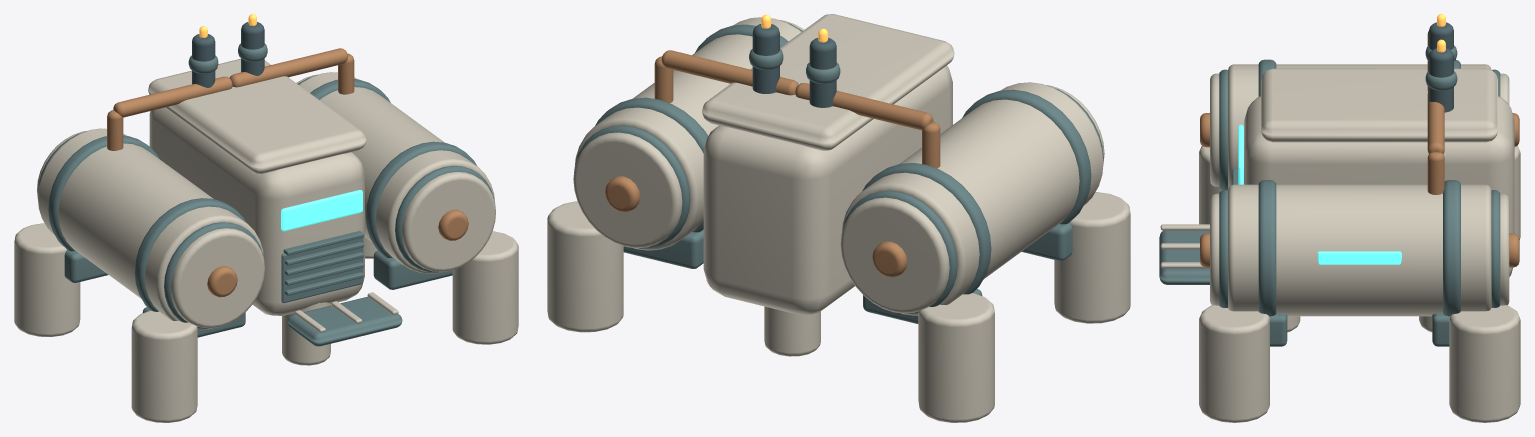
Rendered from refinery.glb.
3 renders of one model, left to right at view 1: azimuth 30°, elevation 25°; view 2: azimuth 150°, elevation 25°; view 3: azimuth 270°, elevation 25°, orthographic. The views are drawn at different scales.
Visible parts, largest first — view 1: Architecture; view 2: Architecture; view 3: Architecture.
Part boxes in pixels (x1,y1,x2,y2): Architecture: [14, 14, 518, 422]; Architecture: [547, 14, 1130, 422]; Architecture: [1159, 14, 1520, 422].
Size of the model in its own units: 3.54 by 2.5 by 2.74.
